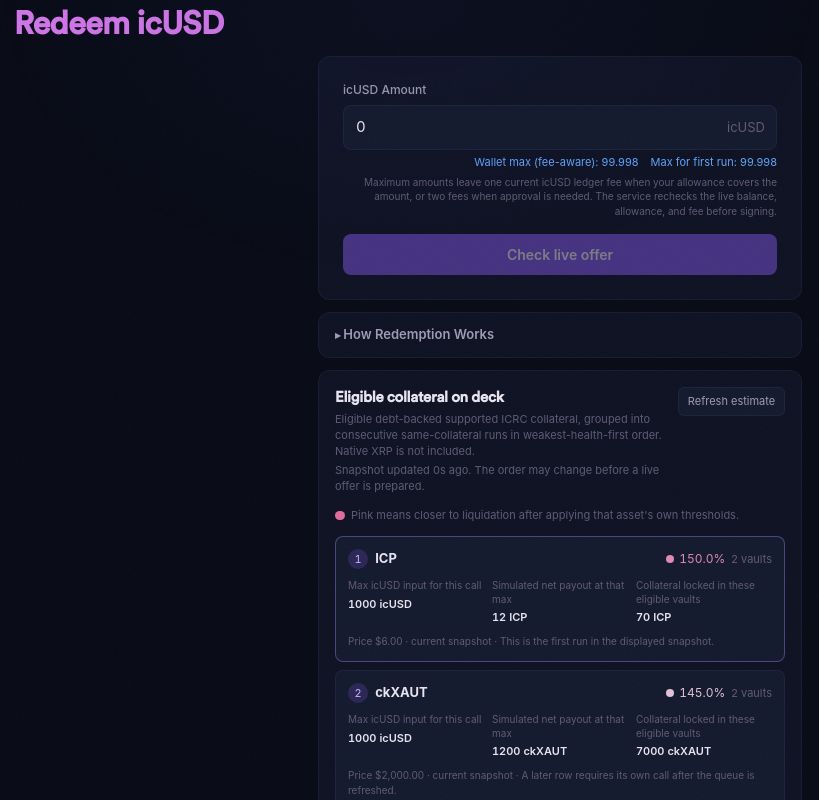
redemption route quote and queue safety › discards a late live-offer response after the amount changes
Replace the text in the number field with id "icusd-amount" with "10" at (560, 127), box [343,105,777,150]
Wait 350 ms
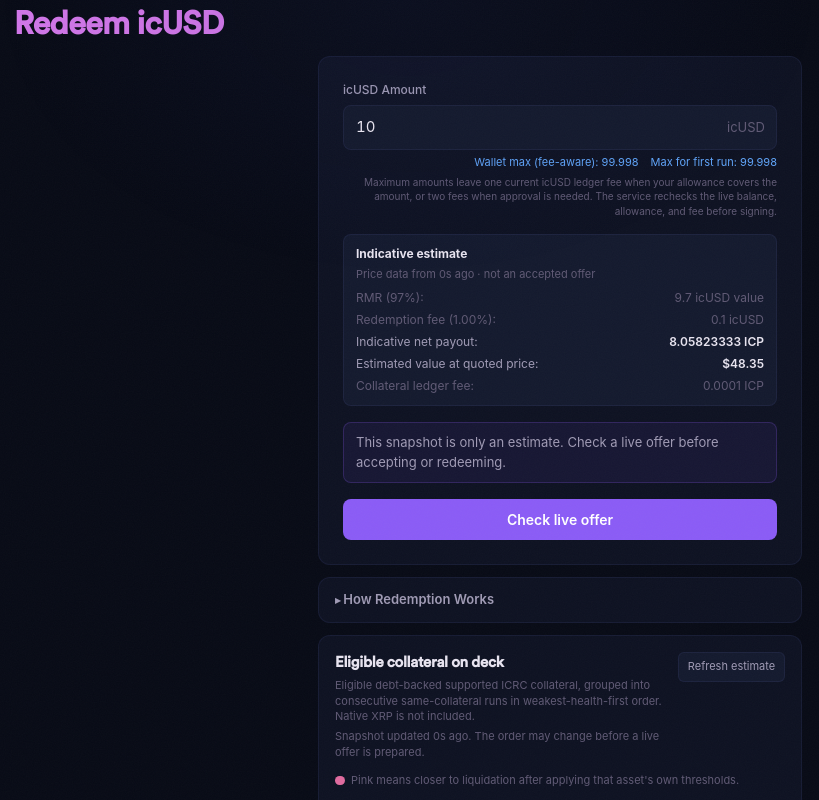
Click the button with id "check-live-offer".
click(560, 520)  # box [343,499,777,540]
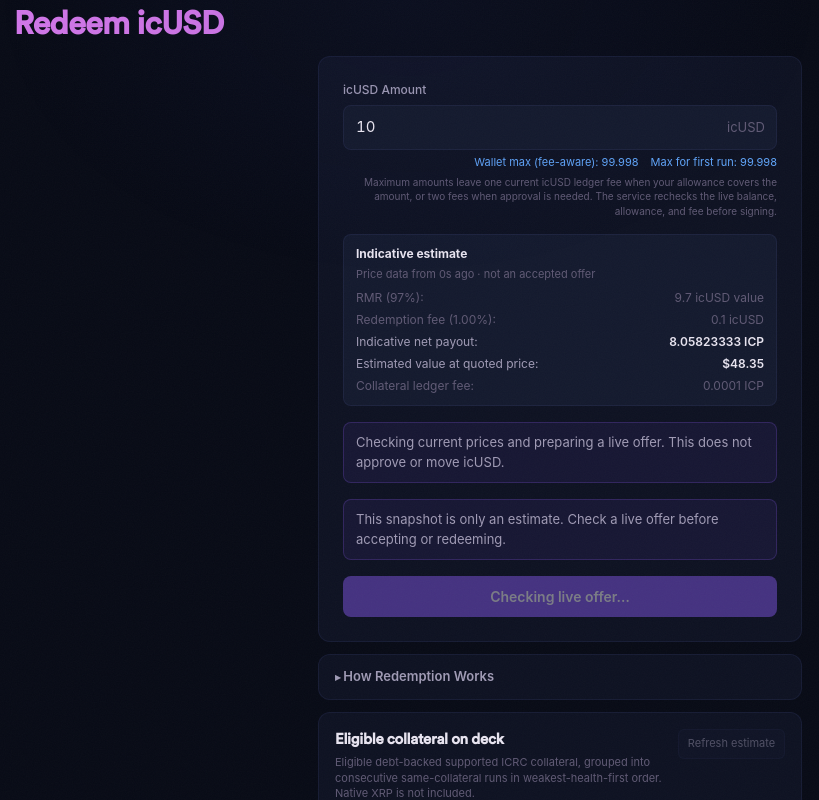
Replace the text in the number field with id "icusd-amount" with "11" at (560, 127), box [343,105,777,150]
Wait 350 ms
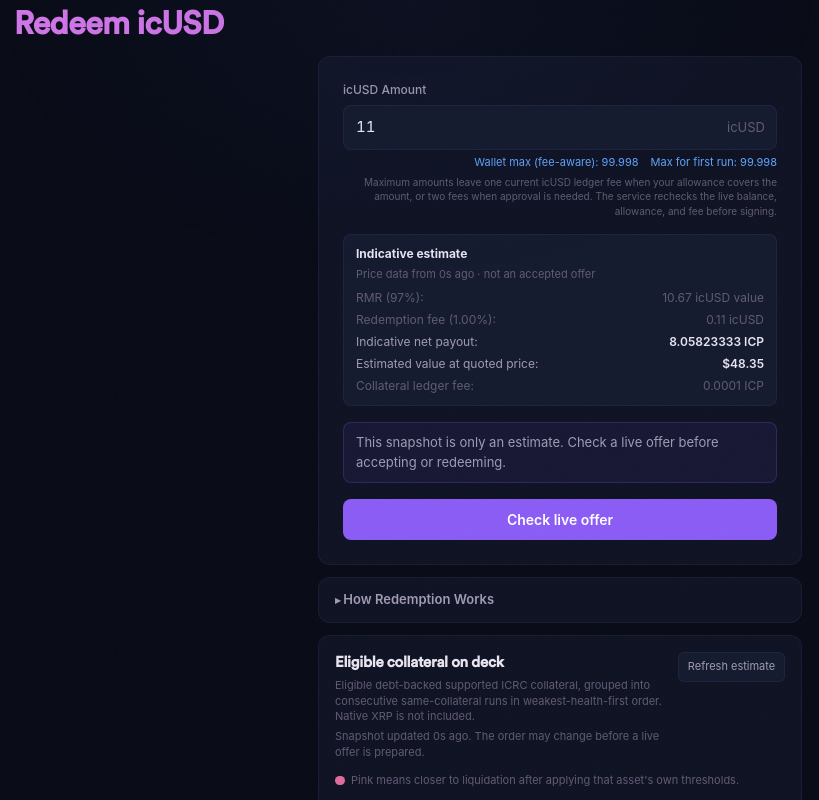
Expected: the text "Indicative estimate" is shown, [356,246,467,261]
Expected: the button with id "check-live-offer" is enabled, [343,499,777,540]
